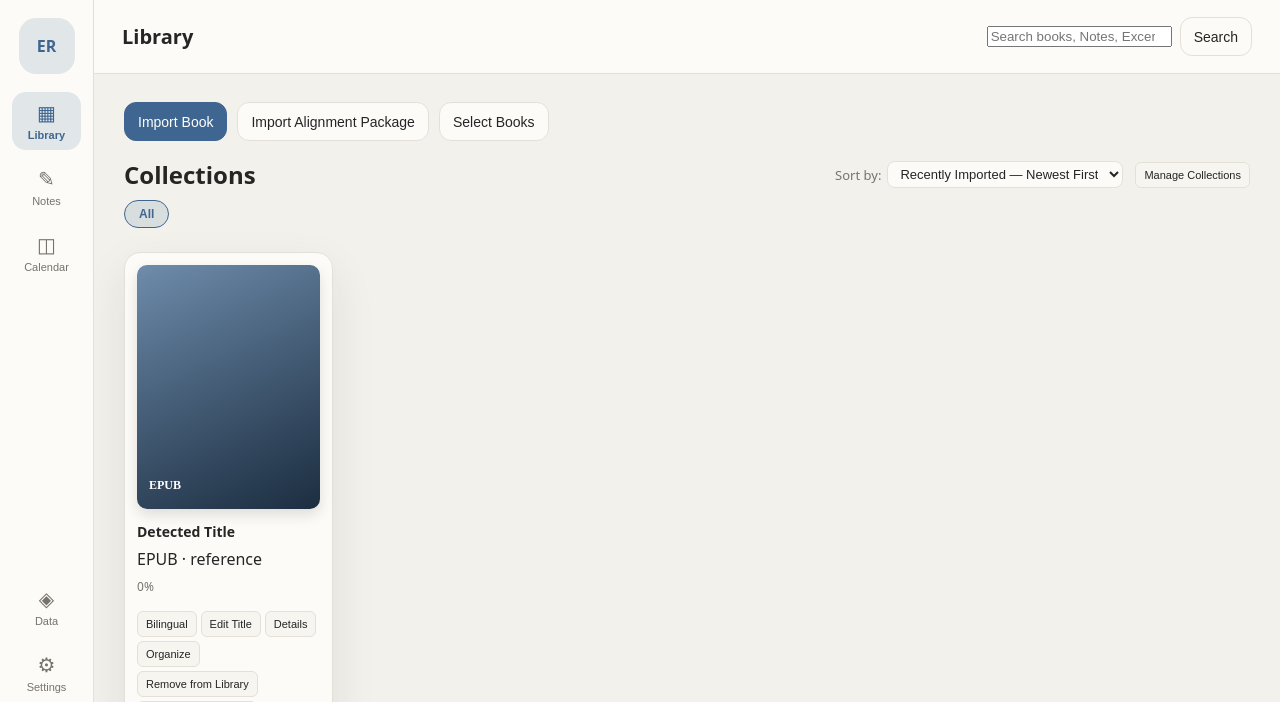
Test case: Metadata editing (PRODUCT_SPEC.md SS3.4 'user-corrected metadata wins'; FC-A02) › edits a Book's title and refreshes the Library with the correction
Expected: the button "Detected Title" is shown, 137,523 -> 235,542
Click the button "Edit Title". click: (231, 624)
box: 201,611 -> 261,637
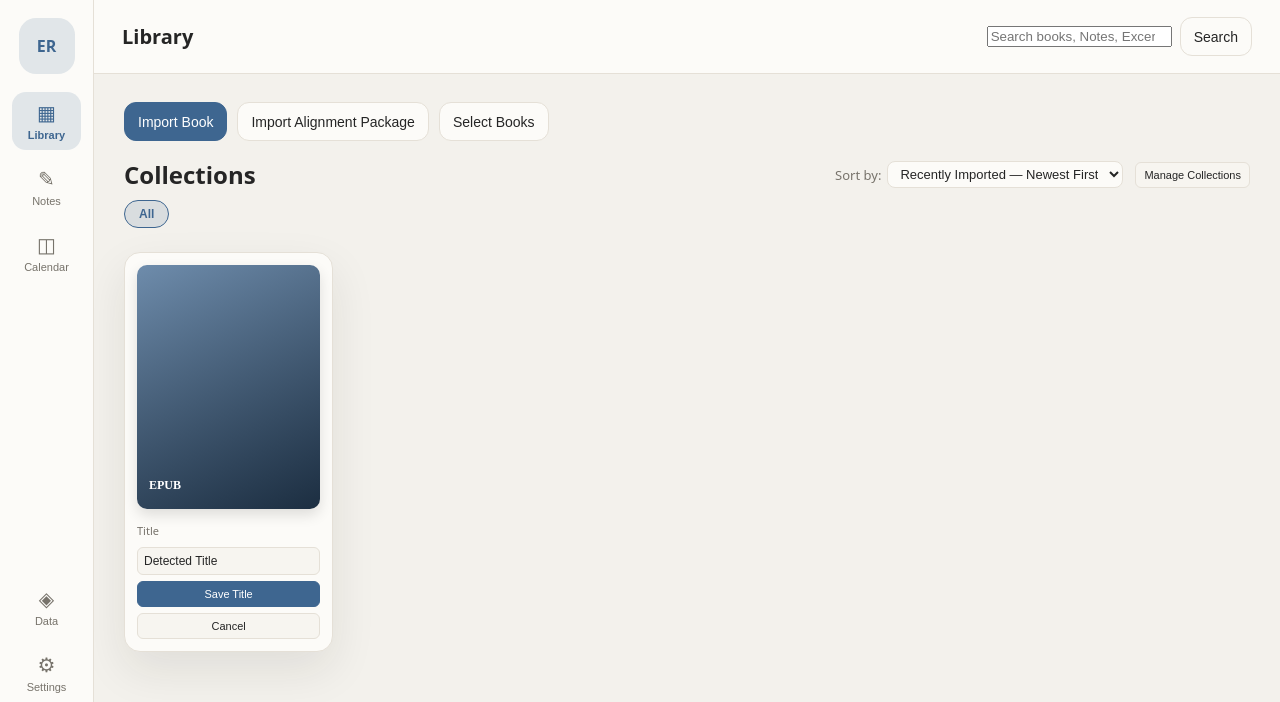
Replace the text in the field labelled "Title" with "Corrected Title". click: (229, 561)
box: 137,547 -> 320,575
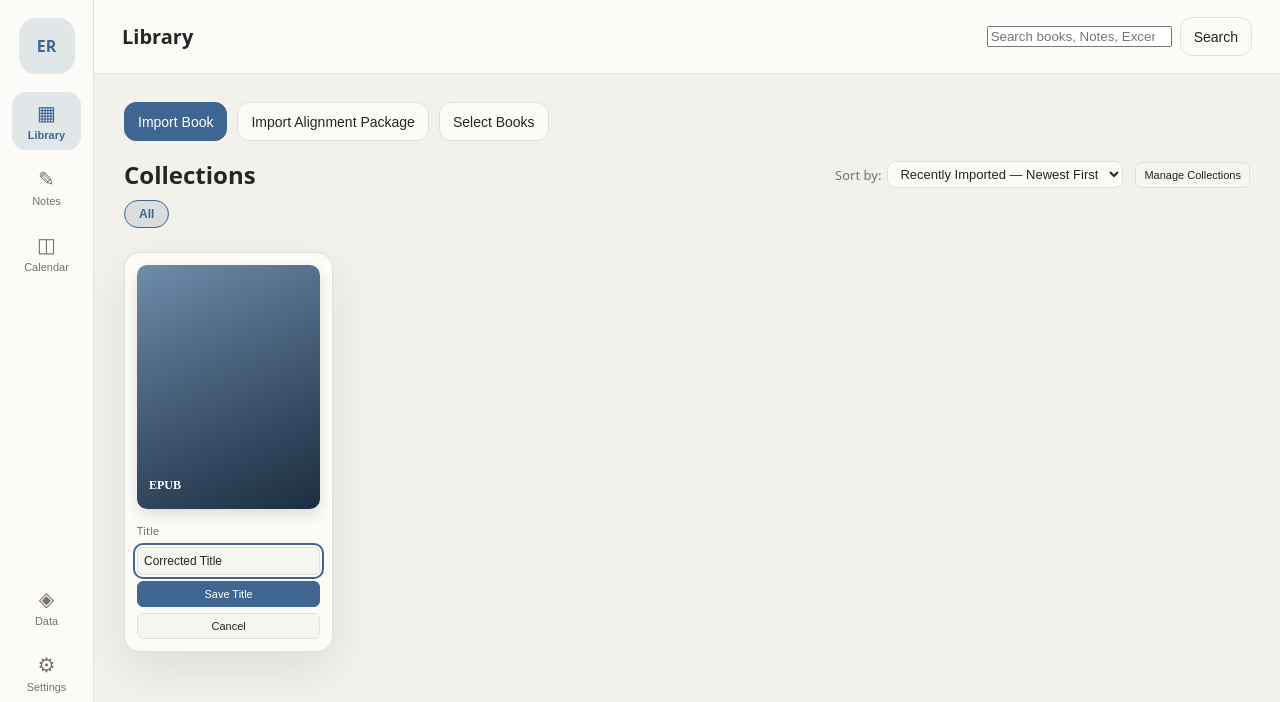
Click the button "Save Title". click: (229, 594)
box: 137,581 -> 320,607
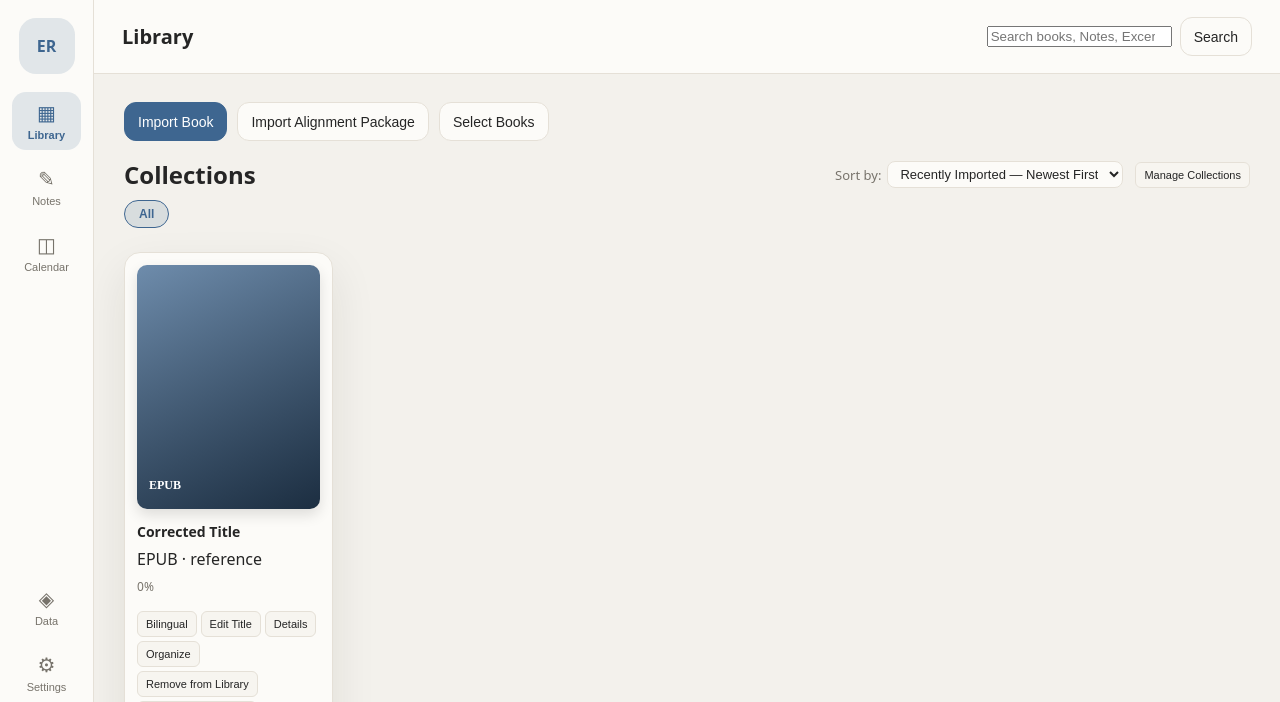
Now the button "Corrected Title" is shown, box 137,523 -> 240,542
